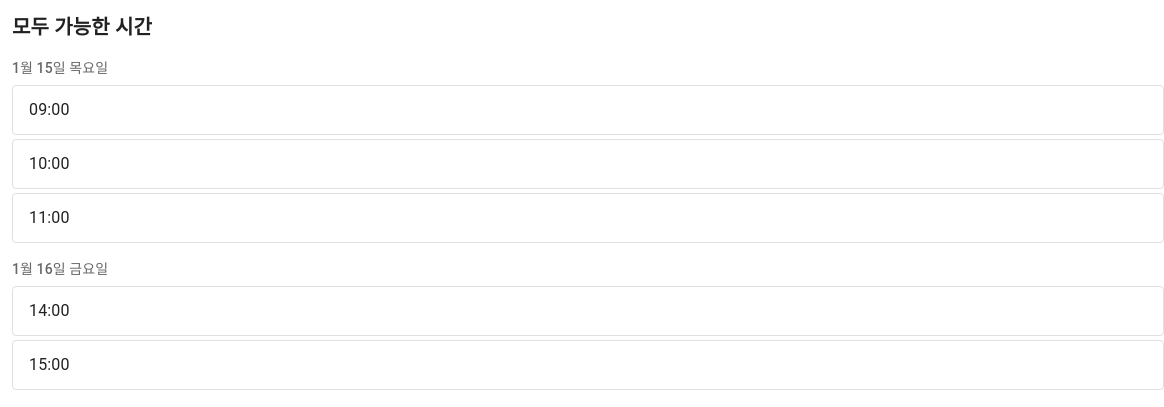
it: CommonSlots › 슬롯 선택 시 선택 상태가 표시되어야 함
The width and height of the screenshot is (1164, 407).
Click the button "09:00".
click(49, 109)  # box [12,85,1163,135]
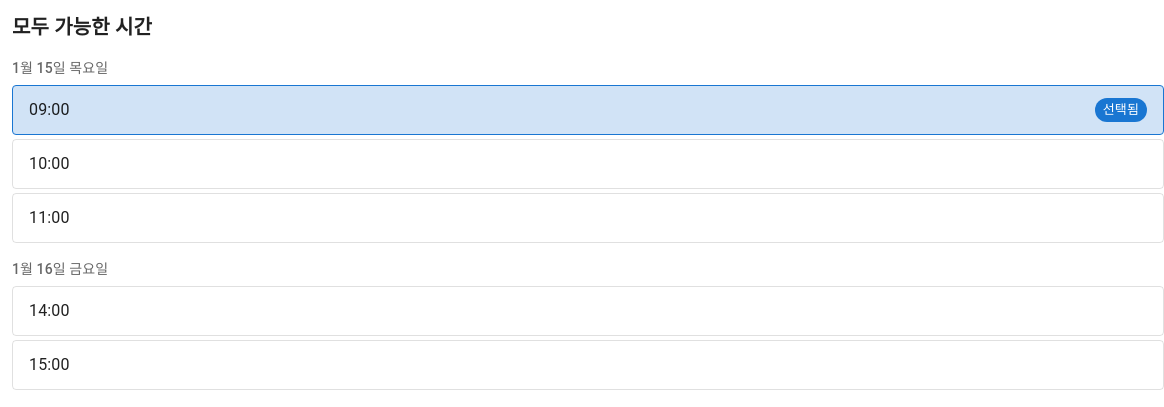
Check: the text "선택됨" is shown, box [1103,102,1139,117]
